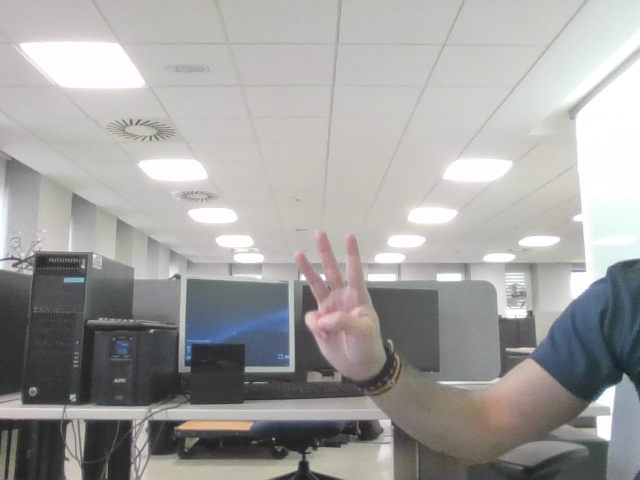3Dedos: (303, 242, 365, 343)
